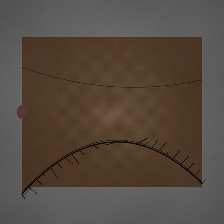pinguecula_lesion: (27, 97, 55, 120)
